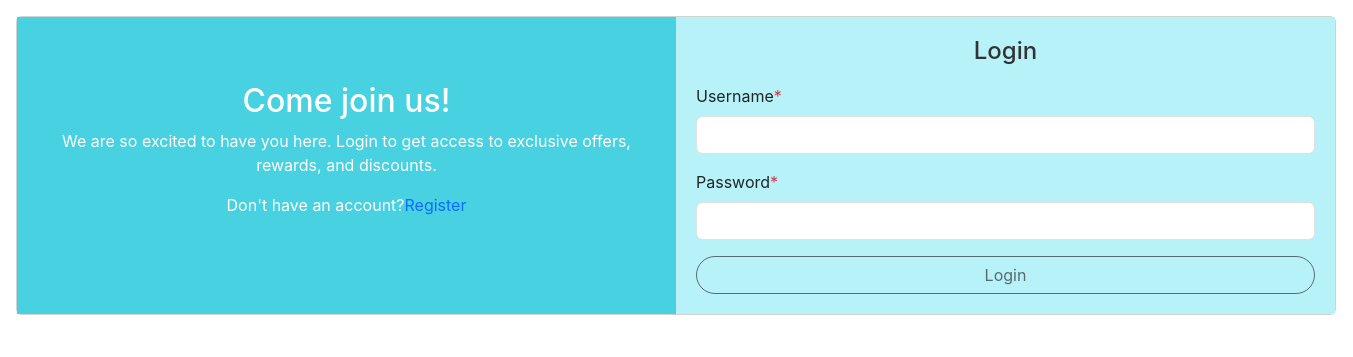
Scenario: Login component › displays error message if password is invalid
This screenshot has width=1353, height=357.
Type "invalid-password" into the password field labelled "Password*". click: (1006, 221)
box: [696,202,1315,240]
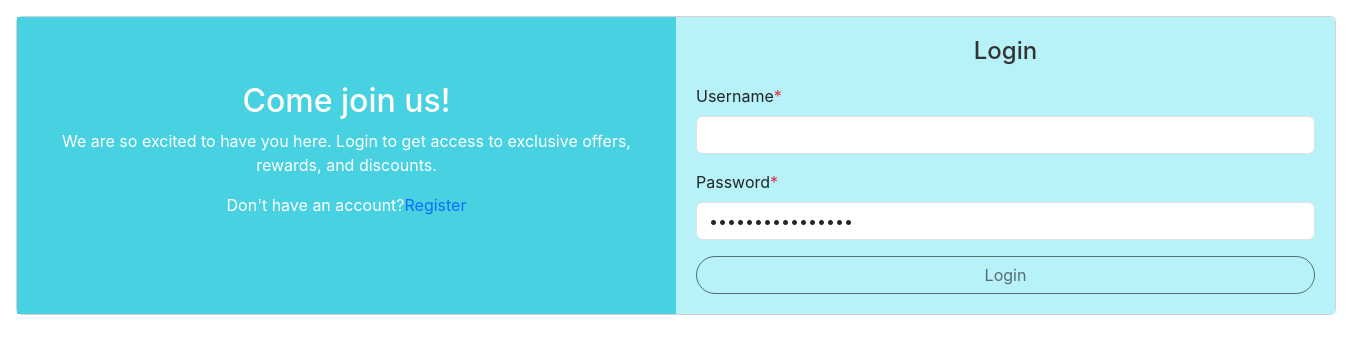
Leave the password field labelled "Password*", box [696,202,1315,240]
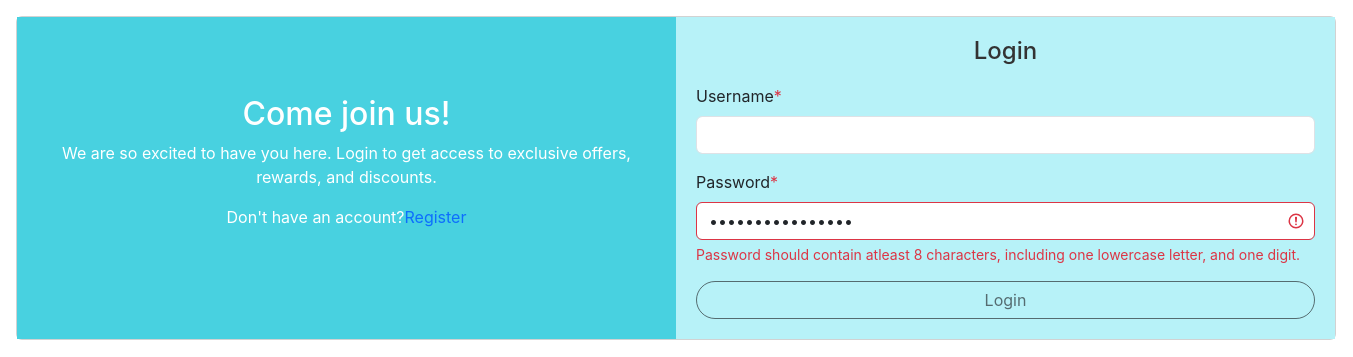
Expected: the text "Password should contain atleast 8 characters, including one lowercase letter, and one digit." is shown, [696,246,1300,263]
